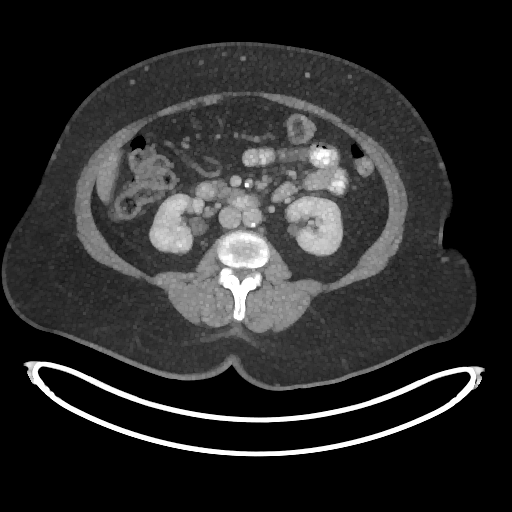Lesion: (315, 217, 325, 224)
